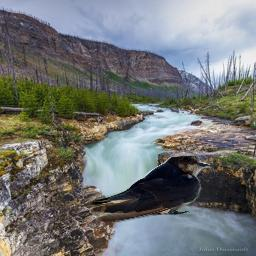Swallow: (89, 155, 210, 223)
